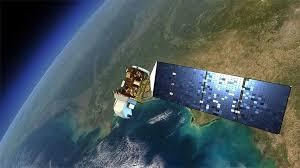body: (112, 64, 151, 119)
solar: (150, 61, 292, 135)
